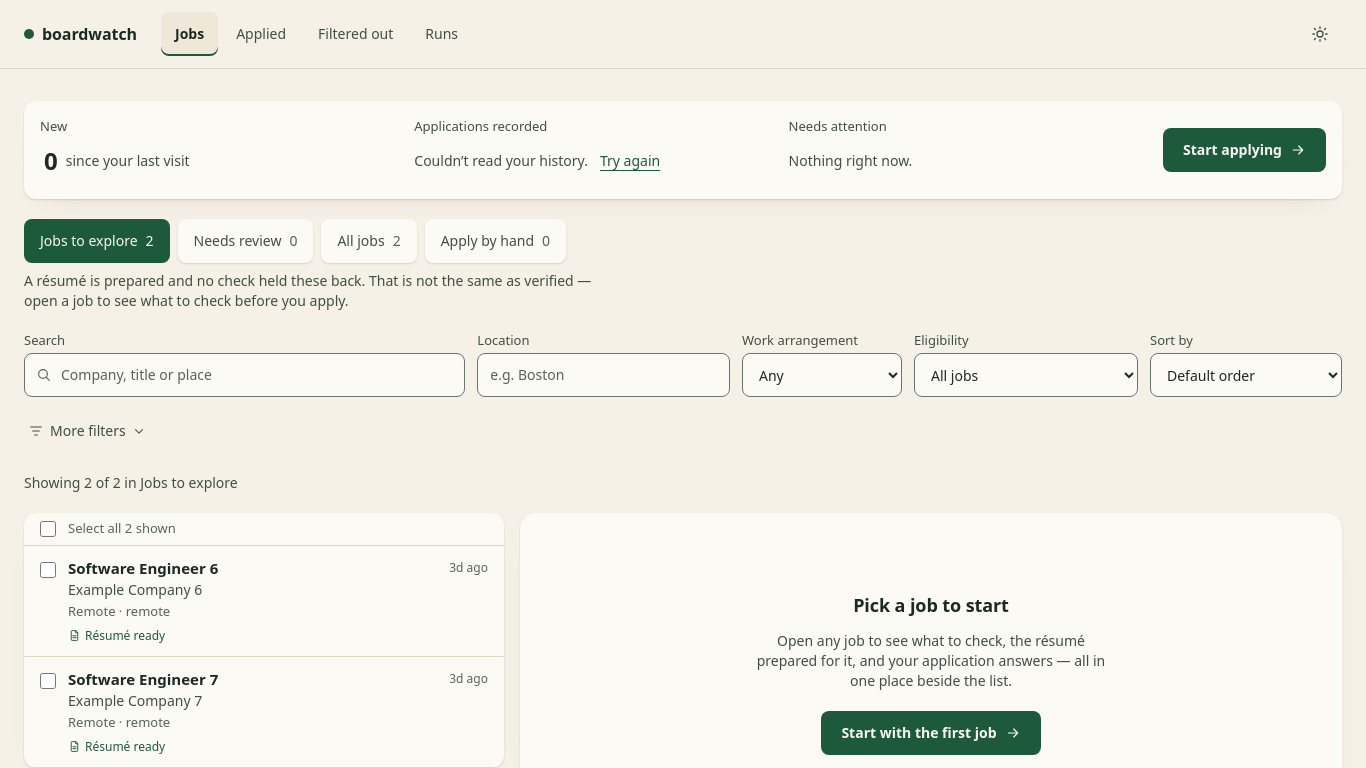
Test: render containment › keeps the queue when the detail pane throws
Click the row that starts with "Software Engineer 6" at (264, 601), box [24, 546, 504, 657]
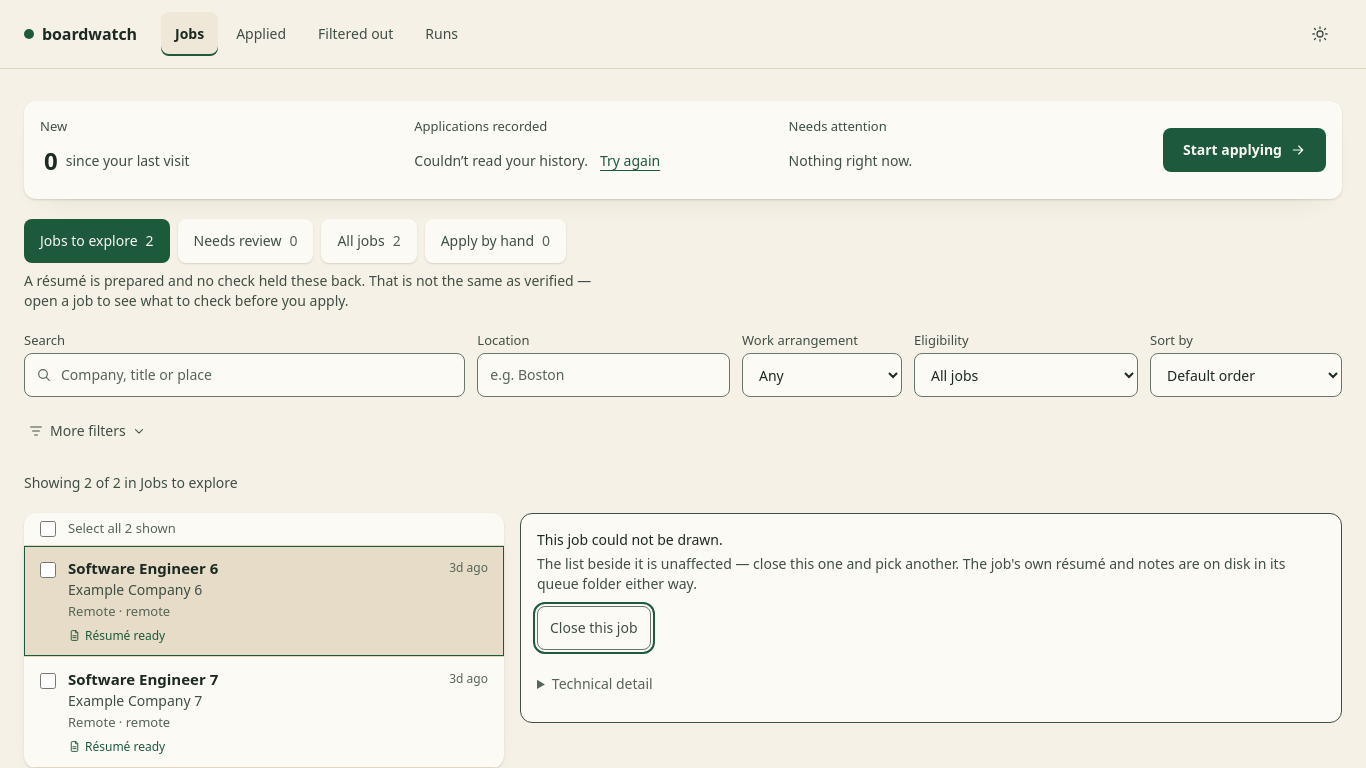
Expected: the text "This job could not be drawn." is shown, [537, 530, 723, 549]
